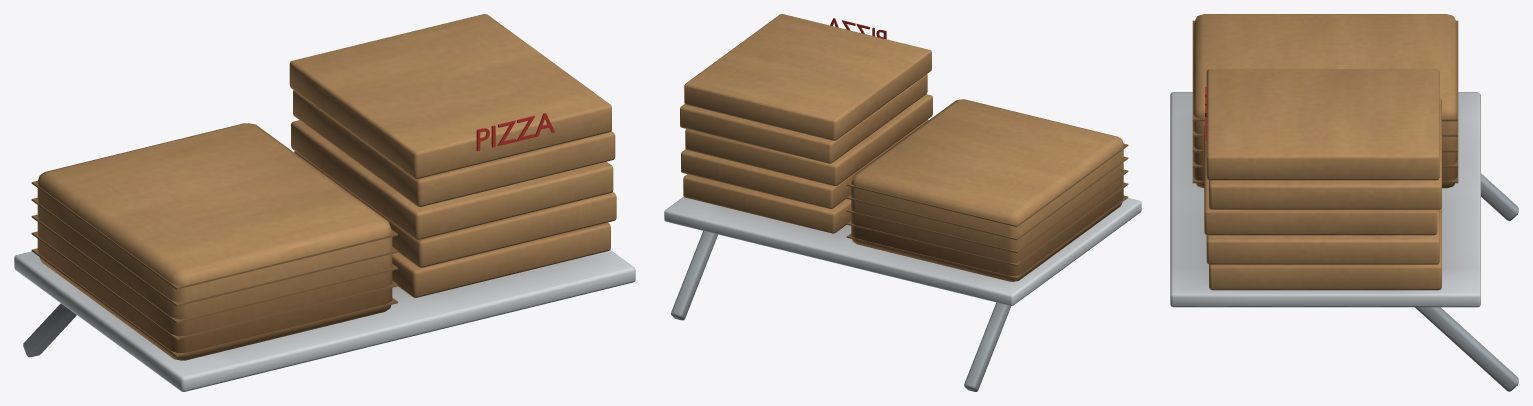
File: fp-boxes.gltf
3 renders of one model, left to right at view 1: azimuth 30°, elevation 25°; view 2: azimuth 150°, elevation 25°; view 3: azimuth 270°, elevation 25°, orthographic. The views are drawn at different scales.
Visible parts, largest first — view 1: folded_mesh, flat_mesh, model; view 2: folded_mesh, flat_mesh, model; view 3: folded_mesh, model, flat_mesh.
Boxes of the visible parts, x1,y1,x2,y2 form: folded_mesh: [289, 14, 616, 297]; flat_mesh: [31, 123, 397, 360]; model: [14, 250, 635, 391]; folded_mesh: [680, 14, 932, 233]; flat_mesh: [846, 99, 1128, 281]; model: [664, 197, 1141, 391]; folded_mesh: [1204, 69, 1441, 290]; model: [1170, 92, 1518, 391]; flat_mesh: [1192, 14, 1458, 188].
Bounding box in the file's own units: 0.621 × 0.3643 × 0.4489.
5 materials, 1 textured.
